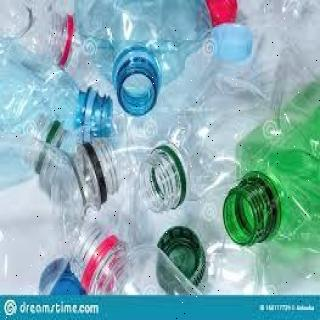Plastic-bottle: (135, 70, 252, 229), (223, 77, 320, 257), (73, 3, 215, 123), (1, 31, 115, 151), (64, 209, 203, 299)
